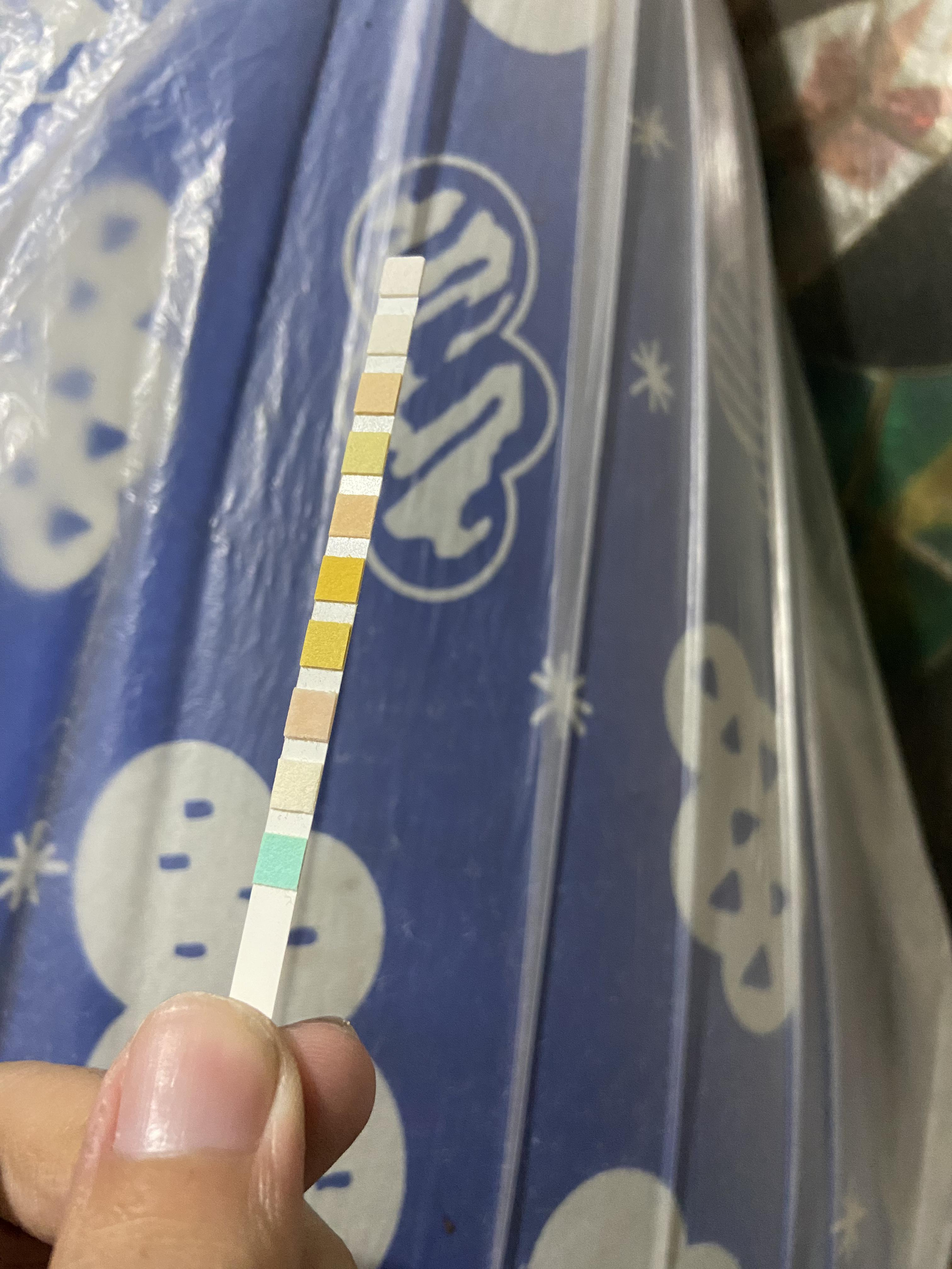Bilirubin: (278, 765, 312, 808)
Blood: (325, 560, 357, 599)
Glucose: (262, 840, 298, 884)
Ketone: (292, 693, 327, 735)
Leukocytes: (385, 260, 418, 293)
Nitrite: (375, 316, 406, 351)
Protein: (349, 434, 380, 471)
SpGravity: (309, 625, 342, 665)
Urobilinogen: (363, 374, 395, 411)
pH: (337, 497, 370, 535)
strip: (230, 256, 425, 1021)
